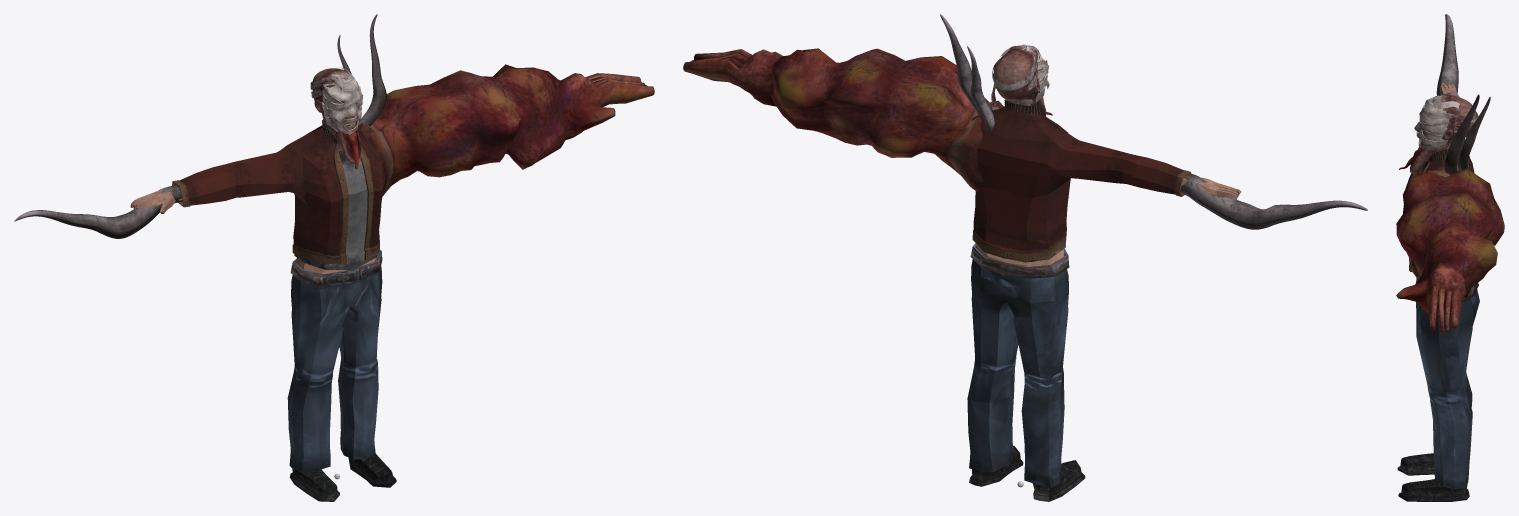
3 renders of one model, left to right at view 1: azimuth 30°, elevation 25°; view 2: azimuth 150°, elevation 25°; view 3: azimuth 270°, elevation 25°, orthographic. The views are drawn at different scales.
Visible parts, largest first — view 1: Cube.008, Cube.003, Cube.004, Cube.006, BézierCurve, Cube.005, Plane.001, Lens_01, BézierCurve.001; view 2: Cube.008, Cube.003, Cube.004, BézierCurve, Lens_01, Cube.005, BézierCurve.001, BézierCurve.002; view 3: Cube.008, Cube.003, Cube.005, Lens_01, Plane.001, BézierCurve, BézierCurve.001, Cube.004, BézierCurve.002, Cube.009.
Part boxes in pixels (box(x1,y1,x2,y2)): Cube.008: box(358, 64, 654, 196); Cube.003: box(287, 250, 382, 471); Cube.004: box(172, 119, 385, 264); Cube.006: box(294, 151, 377, 270); BézierCurve: box(14, 185, 182, 238); Cube.005: box(289, 453, 396, 501); Plane.001: box(321, 71, 362, 134); Lens_01: box(310, 67, 361, 169); BézierCurve.001: box(359, 14, 386, 126); Cube.008: box(683, 48, 1003, 191); Cube.003: box(967, 243, 1069, 487); Cube.004: box(971, 99, 1191, 261); BézierCurve: box(1180, 173, 1367, 229); Lens_01: box(991, 45, 1052, 116); Cube.005: box(969, 445, 1085, 501); BézierCurve.001: box(940, 14, 990, 114); BézierCurve.002: box(967, 46, 994, 131); Cube.008: box(1396, 166, 1504, 332); Cube.003: box(1416, 278, 1479, 489); Cube.005: box(1397, 453, 1469, 501); Lens_01: box(1399, 94, 1478, 173); Plane.001: box(1414, 95, 1450, 150); BézierCurve: box(1436, 14, 1458, 96); BézierCurve.001: box(1444, 94, 1479, 174); Cube.004: box(1405, 96, 1474, 276); BézierCurve.002: box(1459, 97, 1490, 169); Cube.009: box(1440, 82, 1457, 94).
Bounding box in the file's own units: 4.37 × 2.9 × 0.6819.
